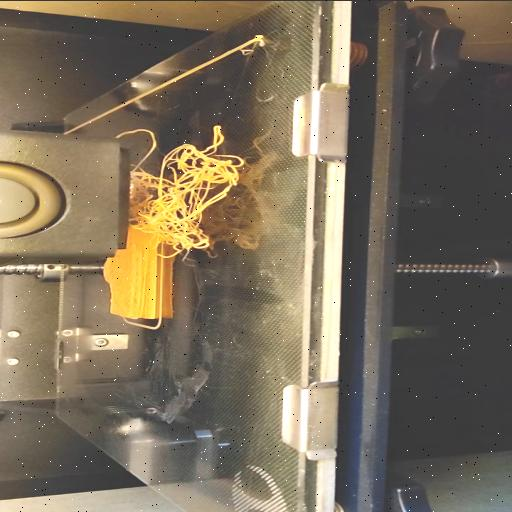spaghetti: (128, 126, 244, 256)
